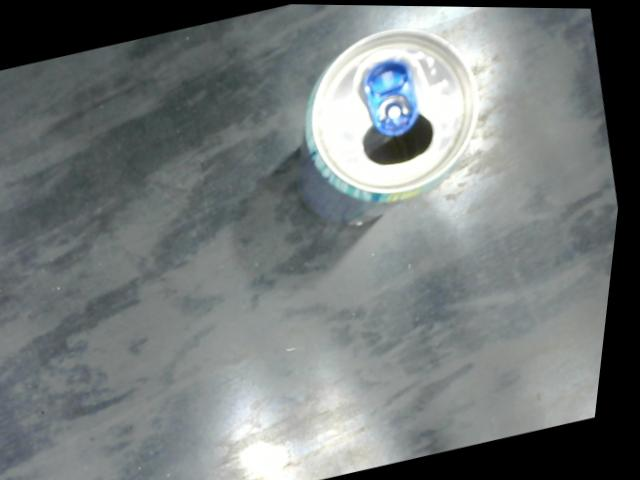can: (263, 6, 515, 241)
